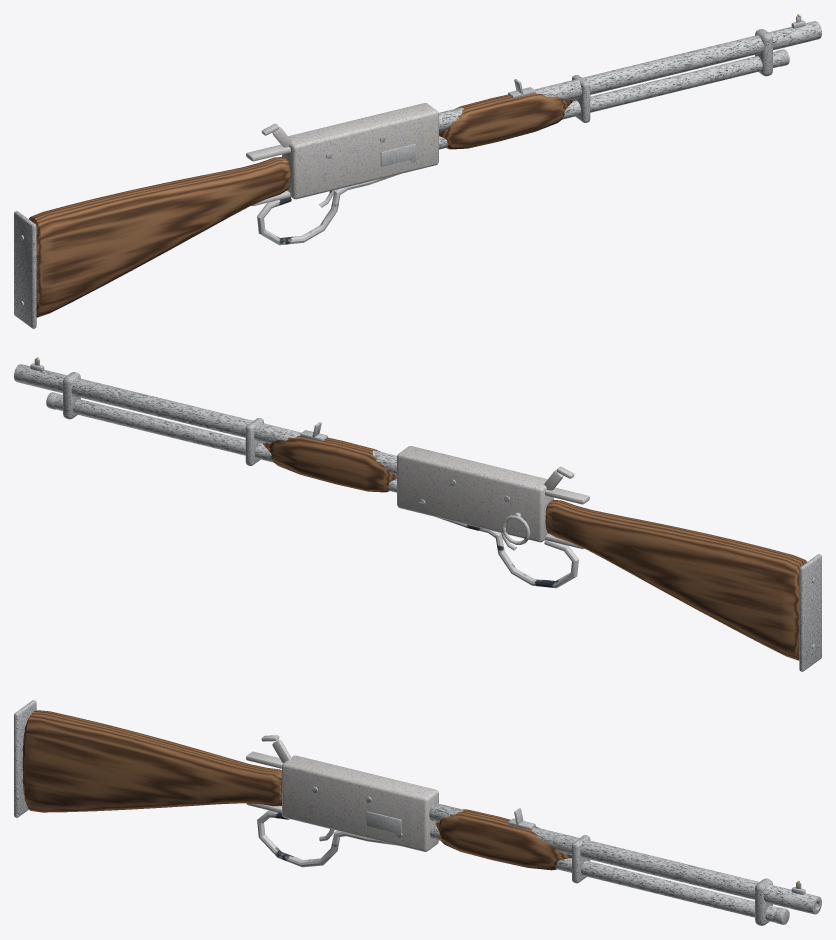
File: carbine_test.glb
The picture shows the model from 3 angles, top to bottom: view 1: azimuth 30°, elevation 25°; view 2: azimuth 150°, elevation 25°; view 3: azimuth 330°, elevation 25°; orthographic projection.
Visible parts, largest first — view 1: stock, receiver, barrel, forend, magazine, butt_plate, lever; view 2: stock, receiver, barrel, forend, magazine, butt_plate, lever; view 3: stock, receiver, barrel, forend, magazine, lever, butt_plate, barrel_band, loading_gate, forend_cap.
Boxes of the visible parts, bbox=[...] form: stock: bbox=[29, 156, 290, 317]; receiver: bbox=[282, 103, 438, 199]; barrel: bbox=[438, 21, 821, 131]; forend: bbox=[439, 93, 572, 149]; magazine: bbox=[439, 51, 781, 149]; butt_plate: bbox=[14, 211, 36, 328]; lever: bbox=[257, 174, 399, 245]; stock: bbox=[545, 499, 806, 660]; receiver: bbox=[397, 446, 553, 542]; barrel: bbox=[14, 364, 397, 474]; forend: bbox=[263, 436, 396, 492]; magazine: bbox=[54, 394, 396, 492]; butt_plate: bbox=[799, 554, 821, 671]; lever: bbox=[436, 517, 578, 588]; stock: bbox=[22, 710, 281, 812]; receiver: bbox=[282, 755, 438, 851]; barrel: bbox=[429, 803, 821, 914]; forend: bbox=[435, 809, 571, 870]; magazine: bbox=[430, 824, 778, 922]; lever: bbox=[257, 810, 397, 867]; butt_plate: bbox=[14, 700, 36, 817]; barrel_band: bbox=[755, 878, 772, 925]; loading_gate: bbox=[366, 811, 401, 834]; forend_cap: bbox=[572, 835, 590, 883].
Bounding box in the file's own units: 1.04 × 0.1695 × 0.0452.
1 material, 1 textured.
